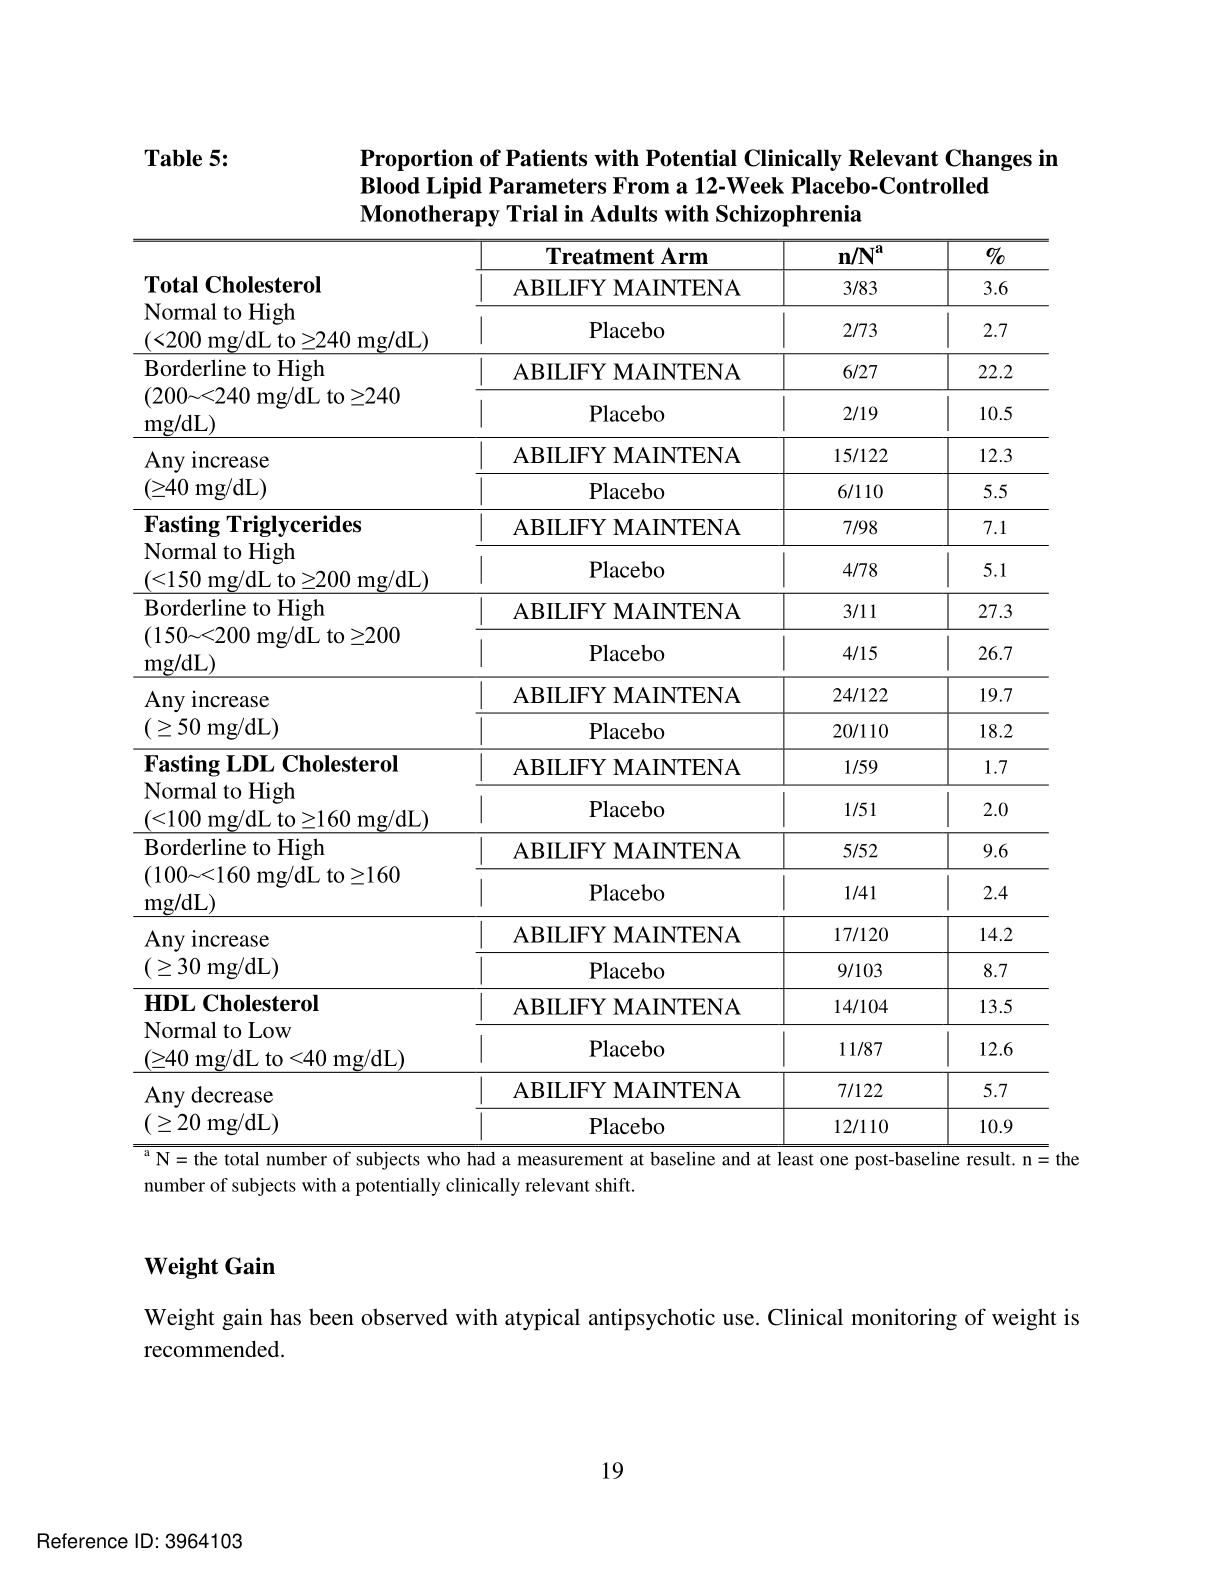partial_lined_merged_cells: (131, 237, 1050, 1148)
